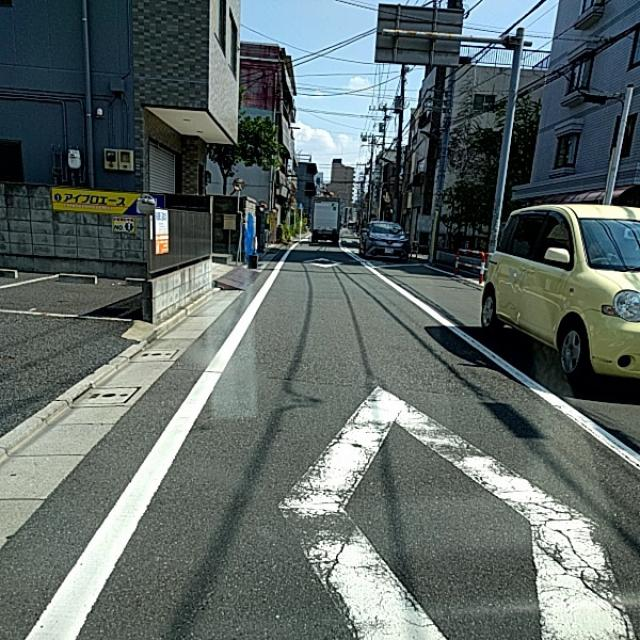pothole: (308, 463, 374, 591)
